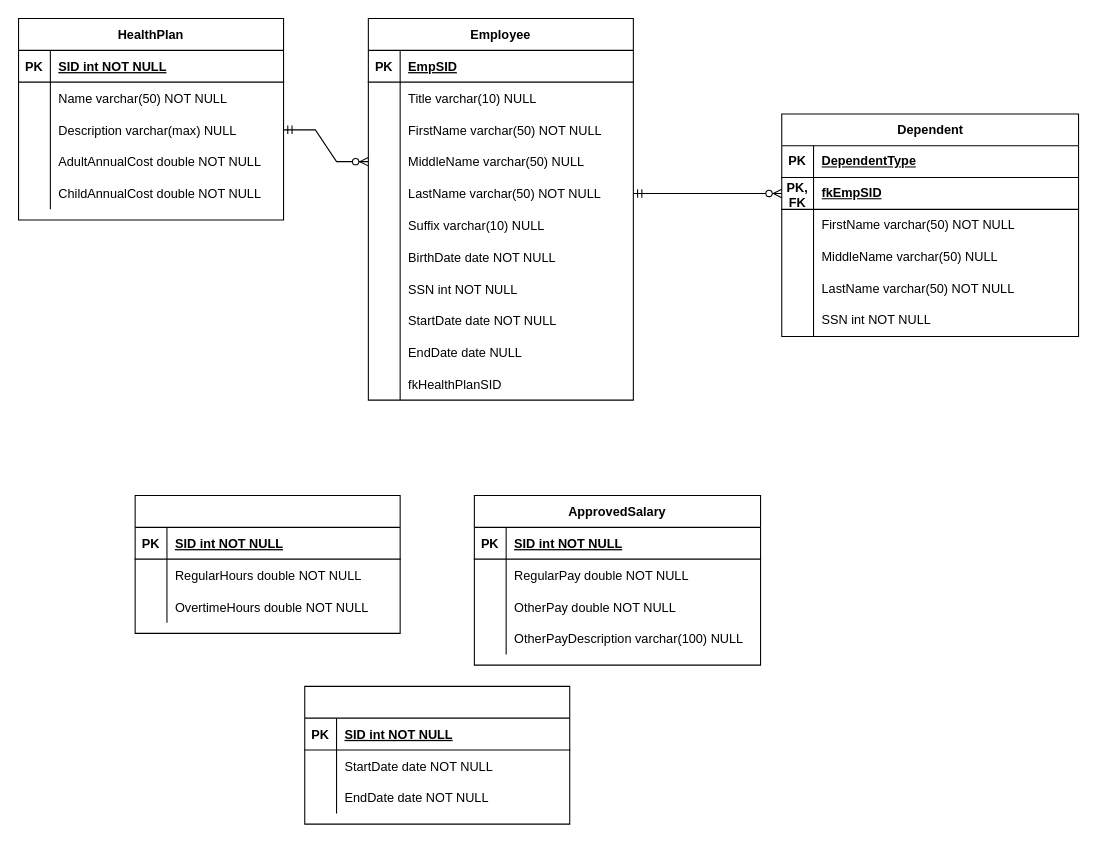
The diagram is 1097 pixels wide and 843 high, and some of its shapes have lost their labels. Here are the shapes that lost their labels. From the top down, the box of each, then its label:
(134, 494, 400, 633): ApprovedTimeSheet
(304, 685, 570, 824): PayPeriod
